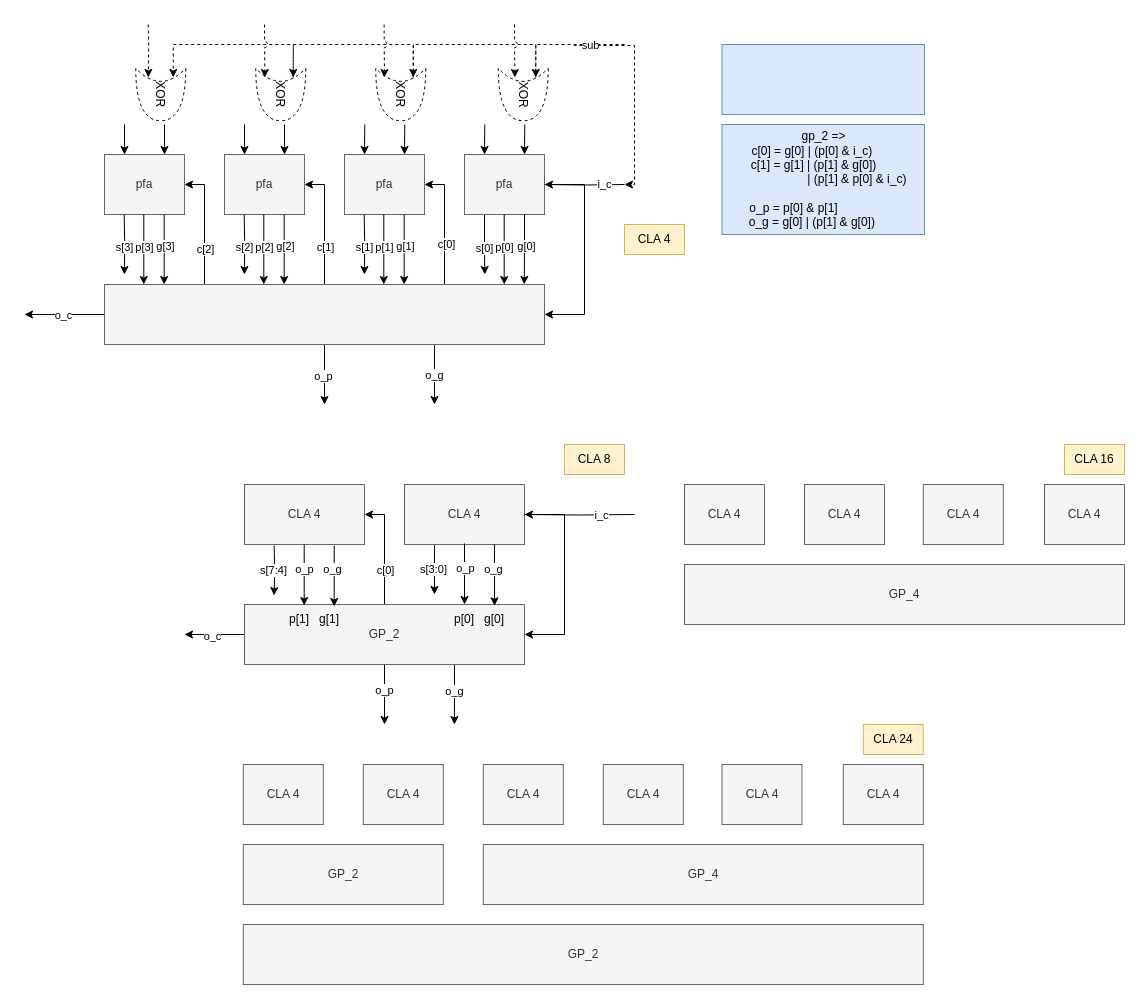
Image size: 1142x1002. Some labels were removed from this diagram. The shapes that lost their labels are listed below. From the top down, each one's centre as x and y in pixels, then its label:
At point 822,79: "pfa => s = a ^ b ^ c p = a ^ b g = a & b".
At point 324,314: "pg_4".
